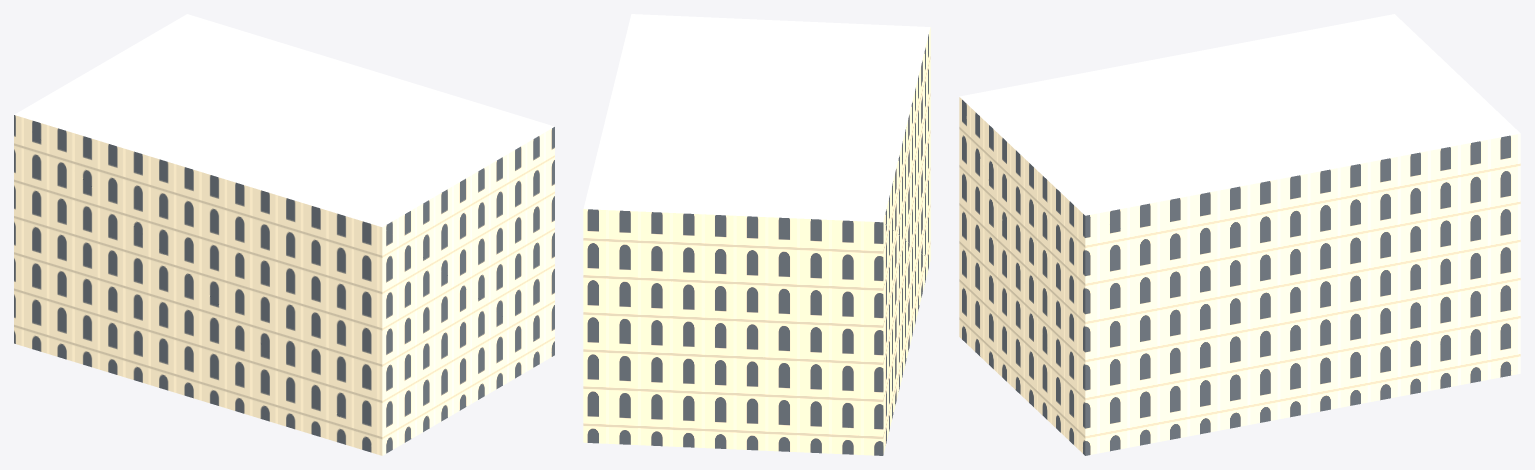
File: landmark-opera-theatre.glb
3 views of the same model, side by side, from view 1: azimuth 30°, elevation 25°; view 2: azimuth 150°, elevation 25°; view 3: azimuth 270°, elevation 25° (orthographic). The views are drawn at different scales.
Parts seen in each view (by area): view 1: opera-theatre; view 2: opera-theatre; view 3: opera-theatre.
Boxes of the visible parts, x1,y1,x2,y2 form: opera-theatre: [14, 14, 554, 455]; opera-theatre: [583, 14, 930, 455]; opera-theatre: [959, 14, 1520, 455].
Bounding box in the file's own units: 52.24 × 28.99 × 61.45.
Materials: 2 (1 with a texture image).
